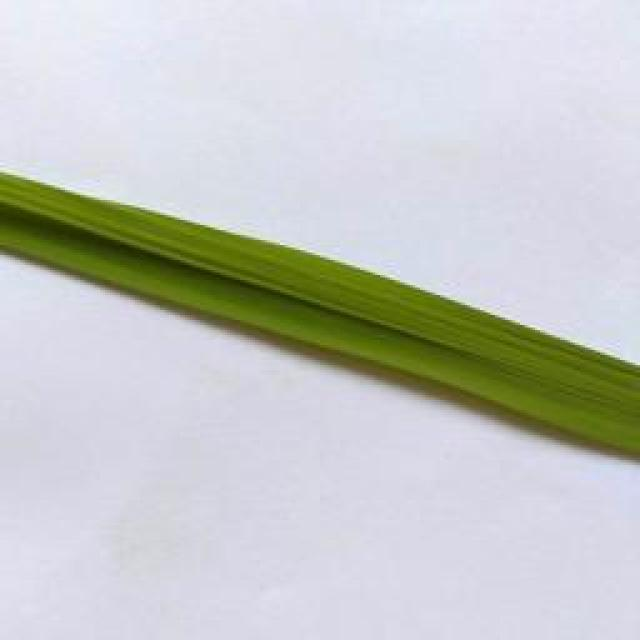Healthy-Plant: (0, 168, 640, 483)
